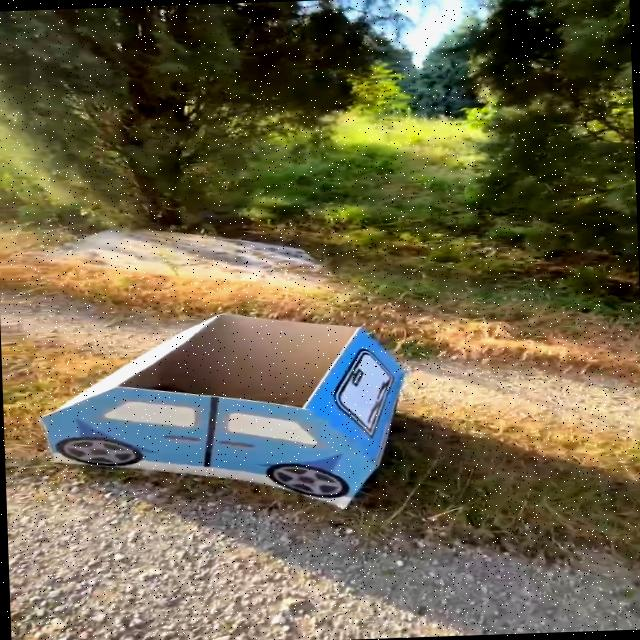blue_car: (0, 280, 533, 527)
